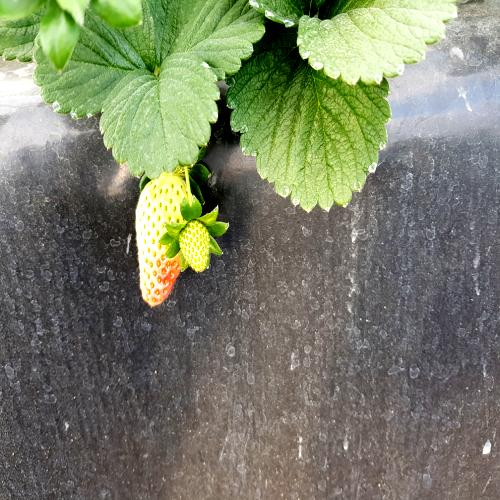unripe: (132, 159, 192, 313)
